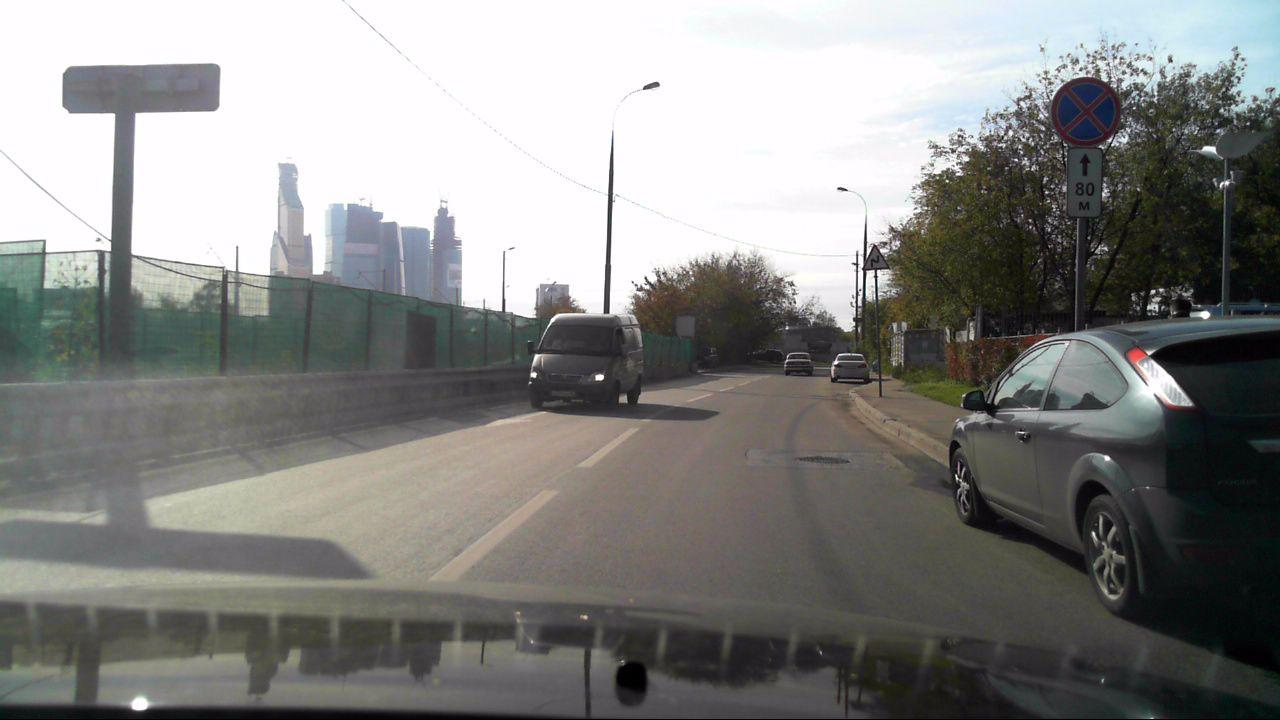1_12_1: (862, 243, 892, 270)
3_27: (1054, 78, 1121, 145)
8_2_2: (1067, 146, 1104, 220)
